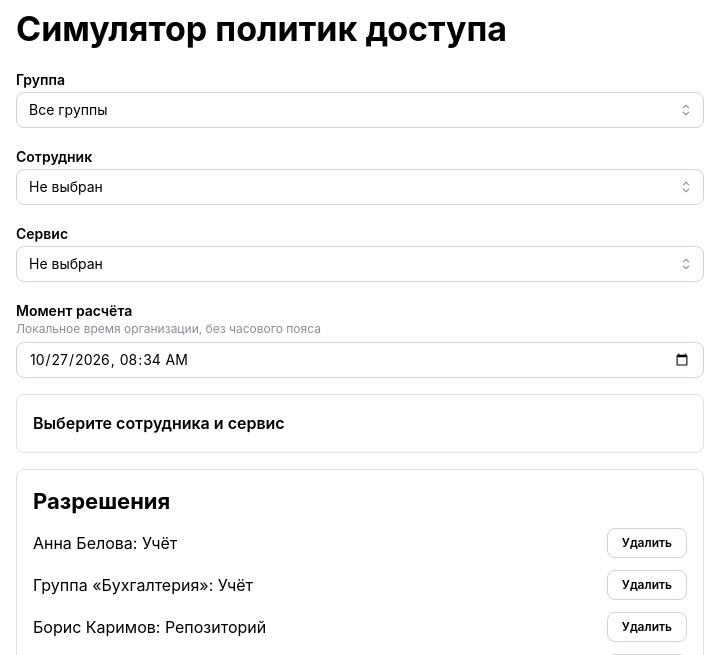
Test case: объяснение доступа › контейнер появляется только при выбранной паре
This screenshot has width=721, height=655.
Select "Анна Белова" in the dropdown with test id "user-select". click: point(360, 187)
box: [16, 169, 704, 205]
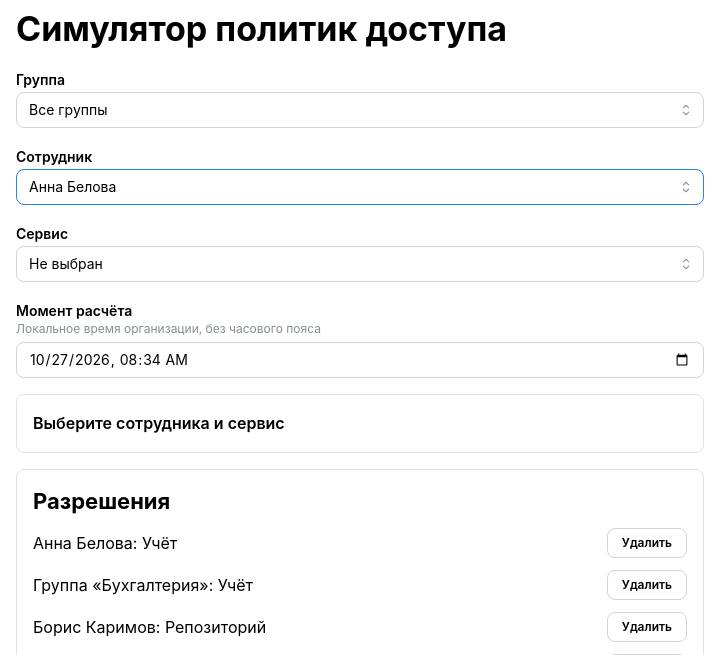
Select "Учёт" in the dropdown with test id "service-select". click: point(360, 264)
box: [16, 246, 704, 282]
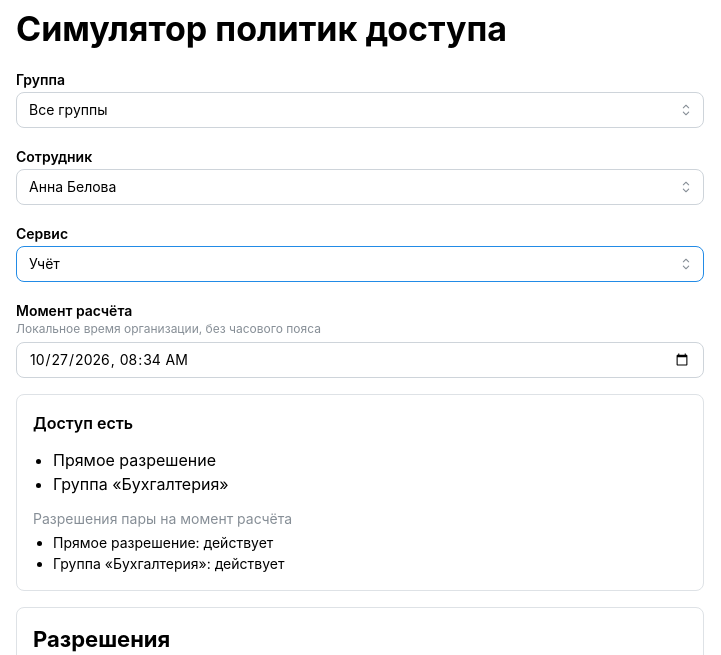
Result: the element with test id "access-explanation" is shown at [33, 510, 292, 572]
